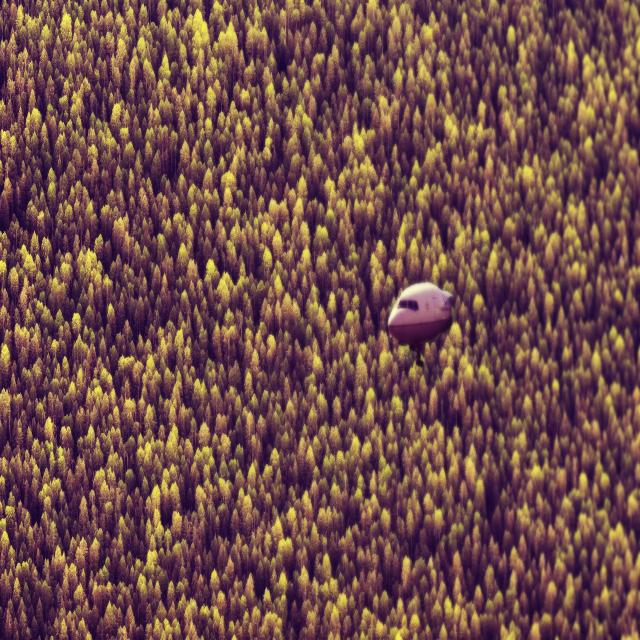airplane: (387, 280, 453, 366)
